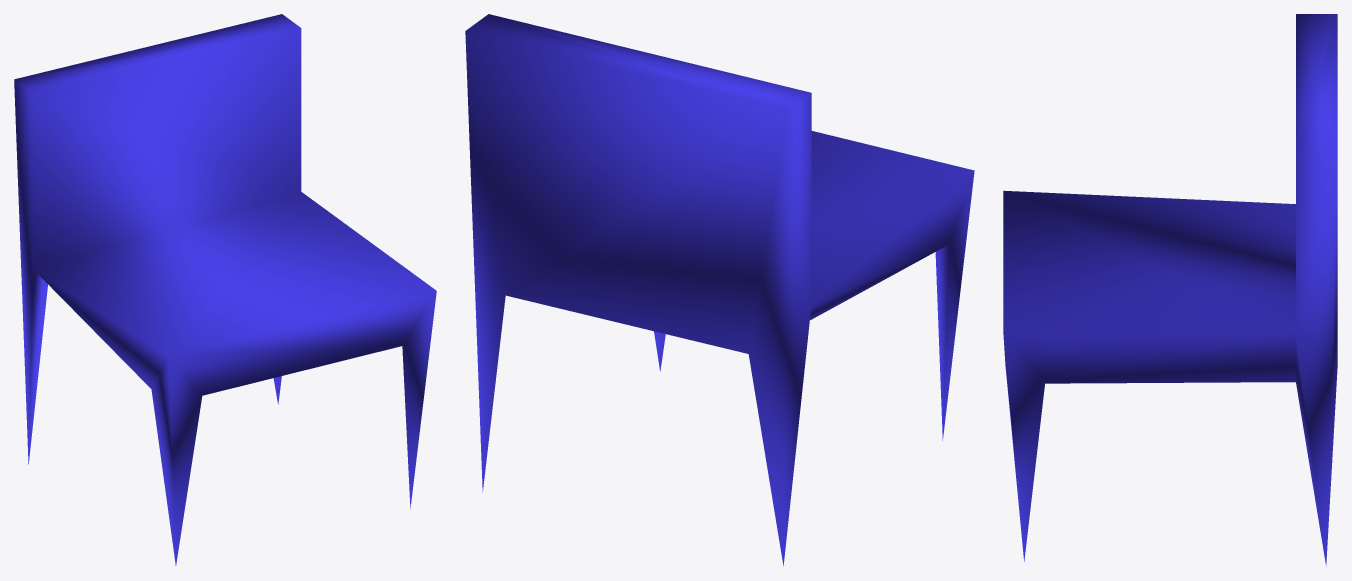
The model's file is OfficeChair3.fbx.
3 renders of one model, left to right at view 1: azimuth 30°, elevation 25°; view 2: azimuth 150°, elevation 25°; view 3: azimuth 270°, elevation 25°, orthographic. The views are drawn at different scales.
Parts seen in each view (by area): view 1: Cube.080; view 2: Cube.080; view 3: Cube.080.
Part boxes in pixels (x1,y1,x2,y2): Cube.080: (14, 14, 436, 565); Cube.080: (465, 14, 974, 566); Cube.080: (1003, 14, 1337, 565).
Bounding box in the file's own units: 67.3 × 92.52 × 67.3.
